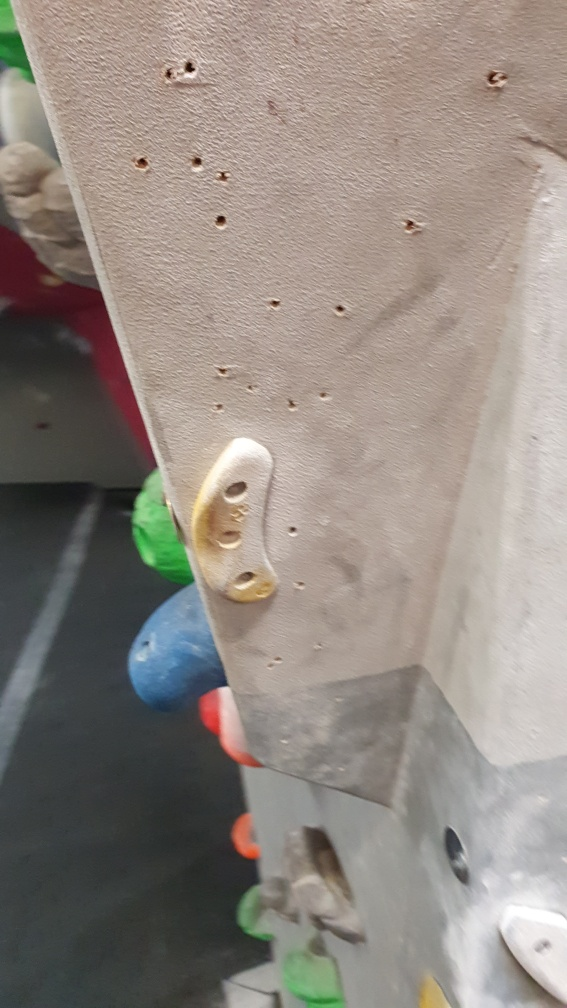Crimp: (190, 435, 281, 607)
Hand Start: (440, 824, 474, 891)
Jug: (283, 822, 364, 943)
Sloper: (123, 579, 233, 721)
